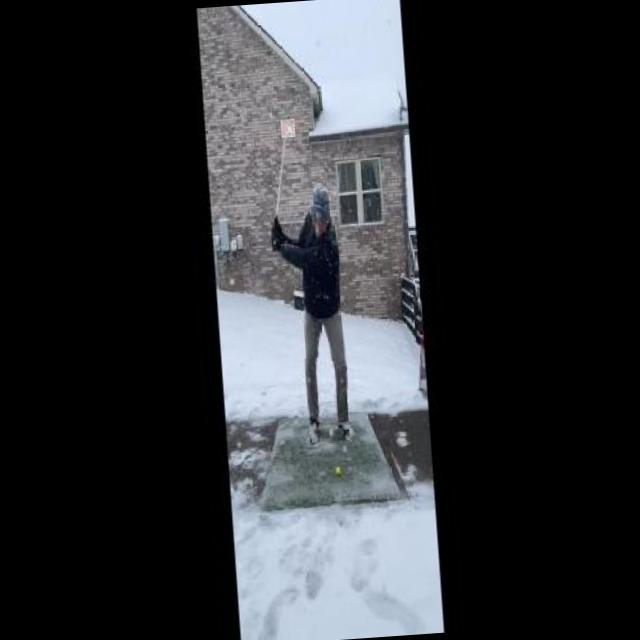club head: (280, 119, 296, 138)
